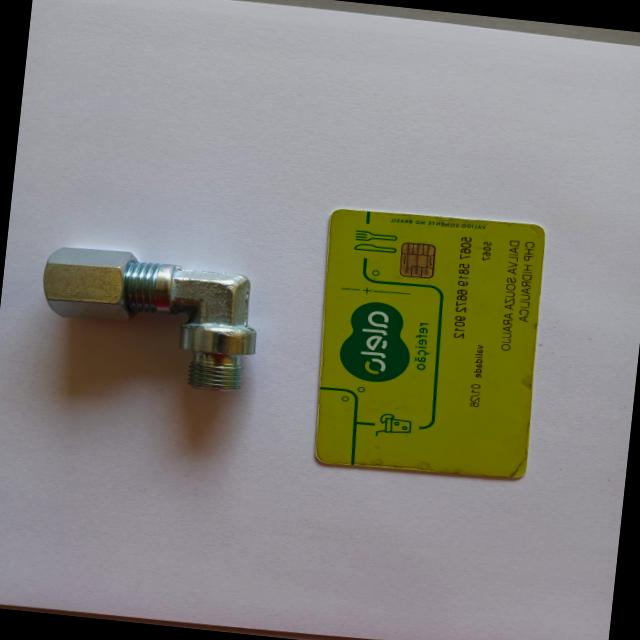cartao: (303, 202, 551, 485)
rosca_externa: (33, 241, 264, 393)
